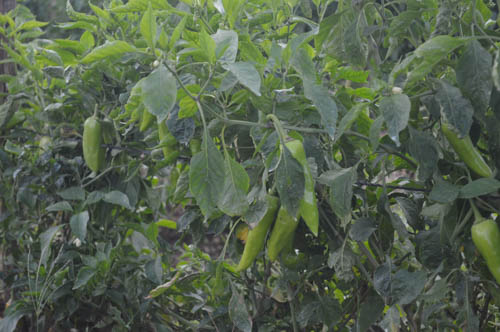ChiliPepper: (282, 142, 325, 233), (235, 196, 275, 274), (442, 125, 491, 180), (466, 216, 497, 278), (270, 206, 296, 264), (80, 120, 102, 170)
